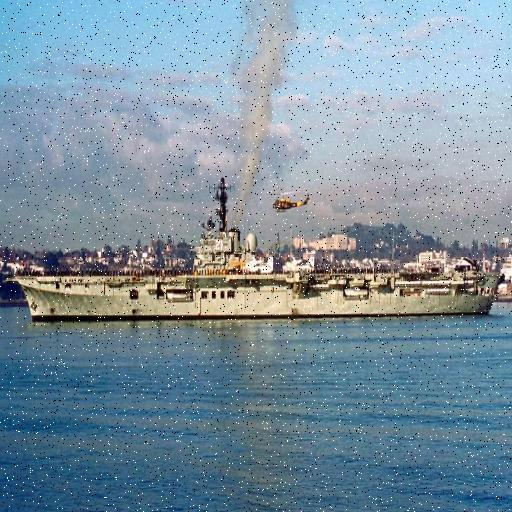Portanaves: (10, 175, 511, 328)
